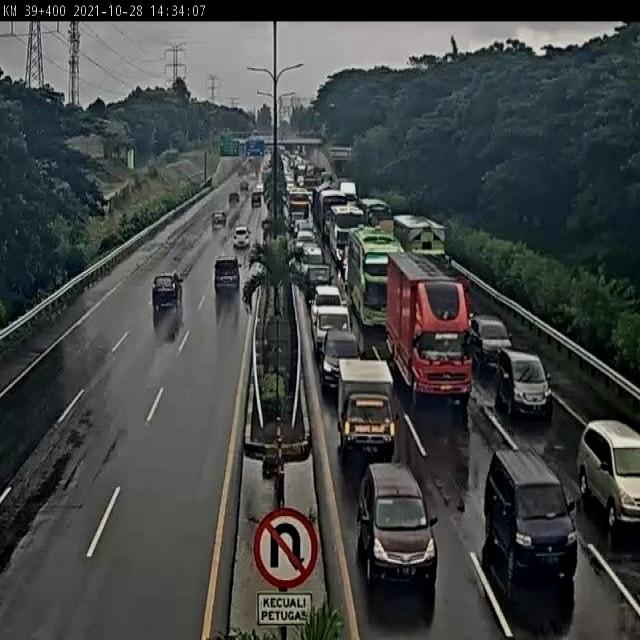Bus: (346, 224, 406, 334), (286, 188, 312, 230)
Car: (483, 448, 577, 582), (357, 461, 438, 587), (577, 420, 640, 528), (495, 347, 553, 418), (319, 328, 361, 392), (472, 312, 515, 370), (310, 286, 347, 340), (152, 273, 183, 312), (213, 257, 240, 294), (292, 232, 318, 256), (232, 226, 251, 249), (211, 210, 227, 230), (251, 190, 262, 208), (229, 192, 240, 205), (240, 180, 249, 192)
Truck: (386, 250, 479, 403), (336, 361, 397, 462), (393, 214, 446, 262), (313, 309, 353, 354), (312, 185, 342, 236), (302, 262, 332, 299), (367, 210, 409, 235), (339, 179, 359, 208)
Van: (298, 245, 324, 277)
